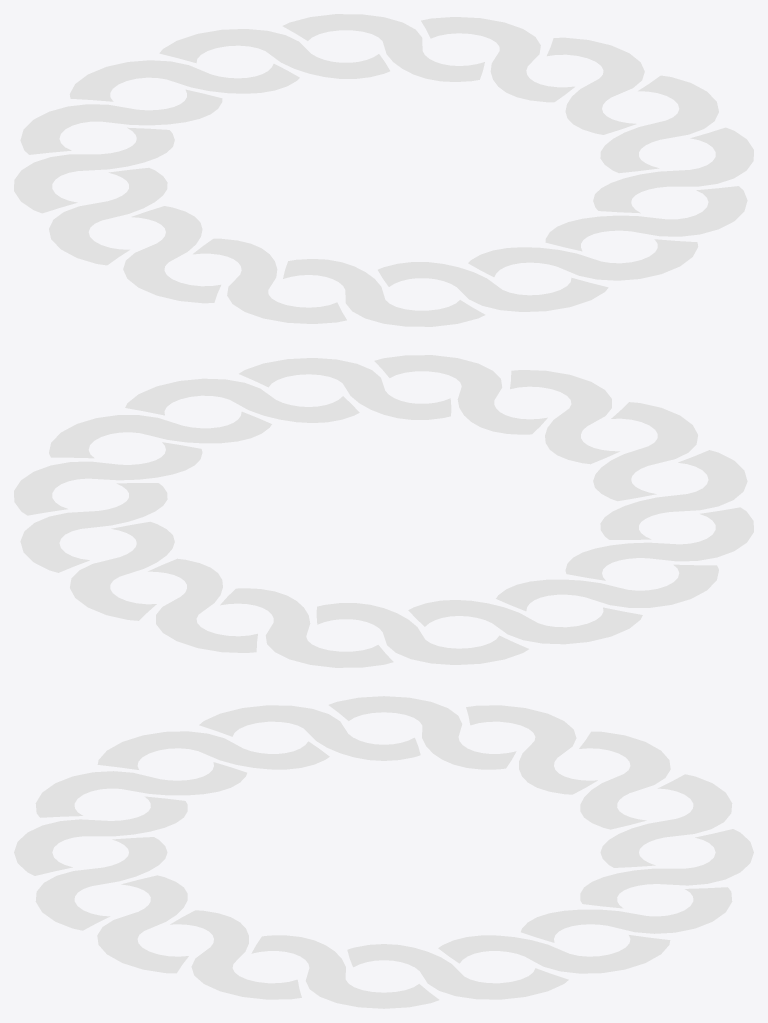
The model's file is Exploring Circle.fbx.
3 views of the same model, one above another, from view 1: azimuth 30°, elevation 25°; view 2: azimuth 150°, elevation 25°; view 3: azimuth 270°, elevation 25° (orthographic).
Visible parts, largest first — view 1: Exploring Circle; view 2: Exploring Circle; view 3: Exploring Circle.
Boxes of the visible parts, box(x1,y1,x2,y2) form: Exploring Circle: box(14, 14, 753, 326); Exploring Circle: box(14, 355, 753, 667); Exploring Circle: box(14, 696, 753, 1008).
Size of the model in its own units: 40 by 7.91e-14 by 40.
Materials: 1 (1 with a texture image).
